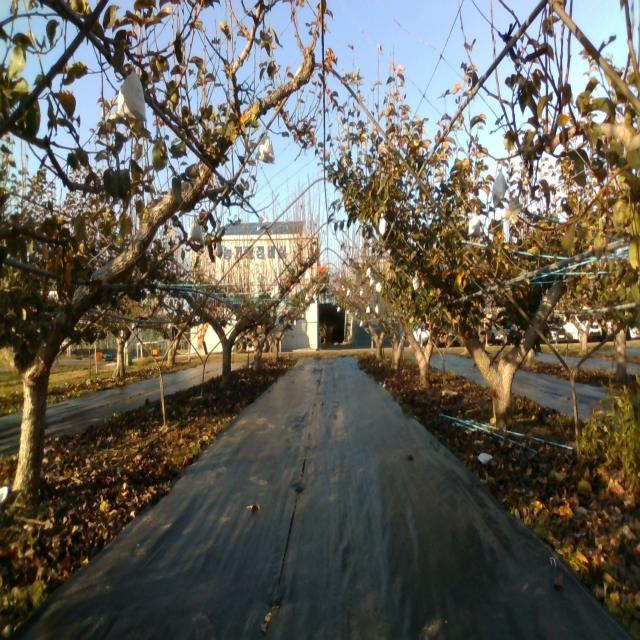pearbags: (115, 74, 147, 118), (255, 134, 276, 167), (492, 171, 507, 208), (188, 220, 204, 243), (467, 213, 481, 238), (256, 210, 269, 232)
